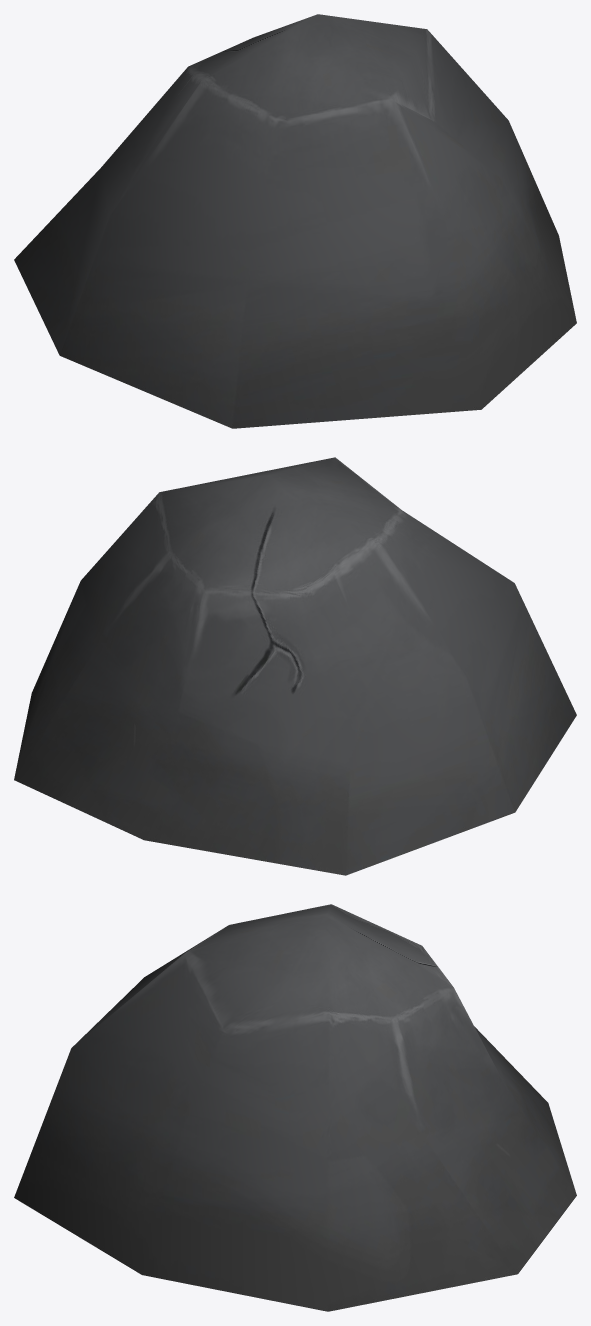
The model's file is Rock3 1.fbx.
3 renders of one model, top to bottom at view 1: azimuth 30°, elevation 25°; view 2: azimuth 150°, elevation 25°; view 3: azimuth 270°, elevation 25°, orthographic. The views are drawn at different scales.
Parts seen in each view (by area): view 1: Cube; view 2: Cube; view 3: Cube.
Part boxes in pixels (box(x1,y1,x2,y2)): Cube: box(14, 14, 576, 428); Cube: box(14, 457, 576, 875); Cube: box(14, 904, 576, 1311).
Size of the model in its own units: 123 by 66.26 by 122.
Materials: 1 (1 with a texture image).
